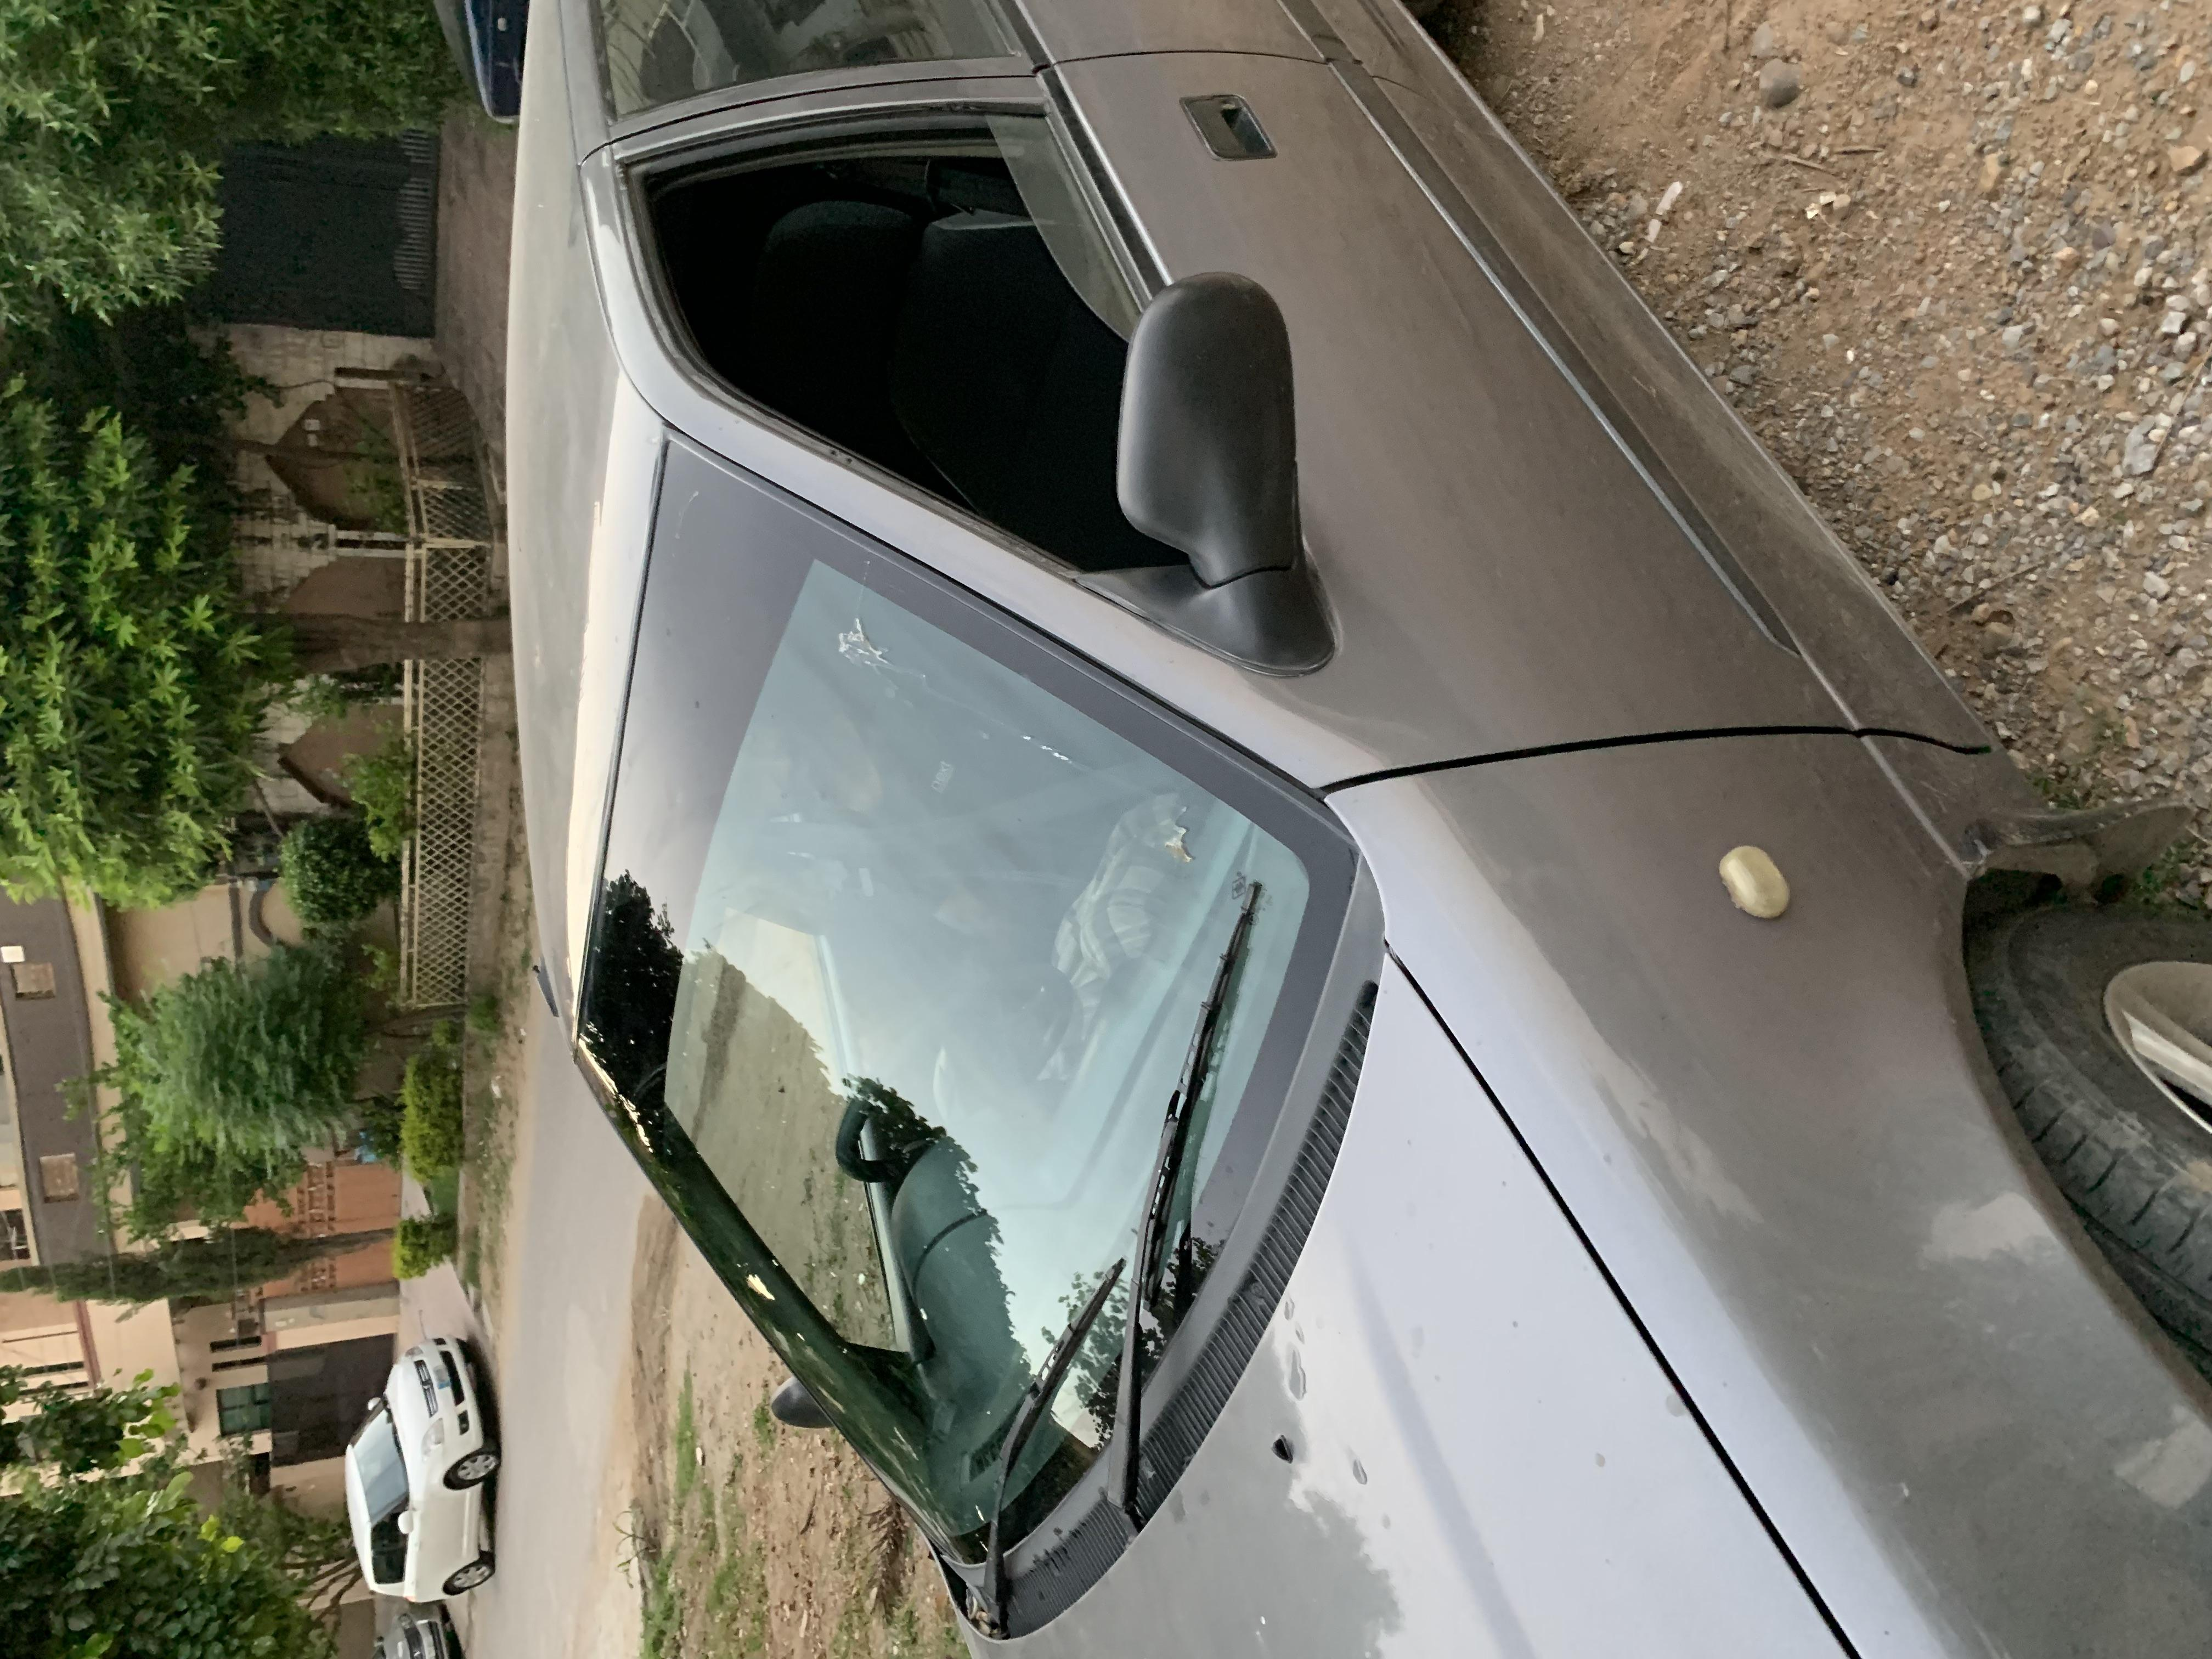windshield: (31, 423, 1676, 1037)
